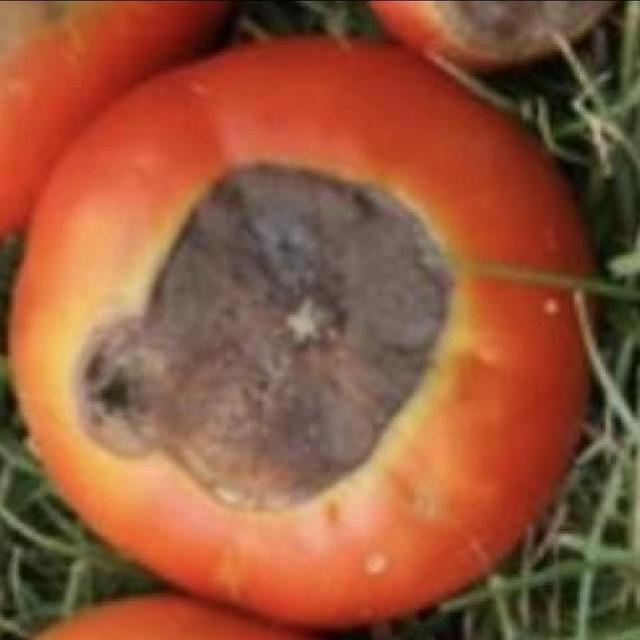Blossom End Rot Fruit: (128, 13, 341, 240)
